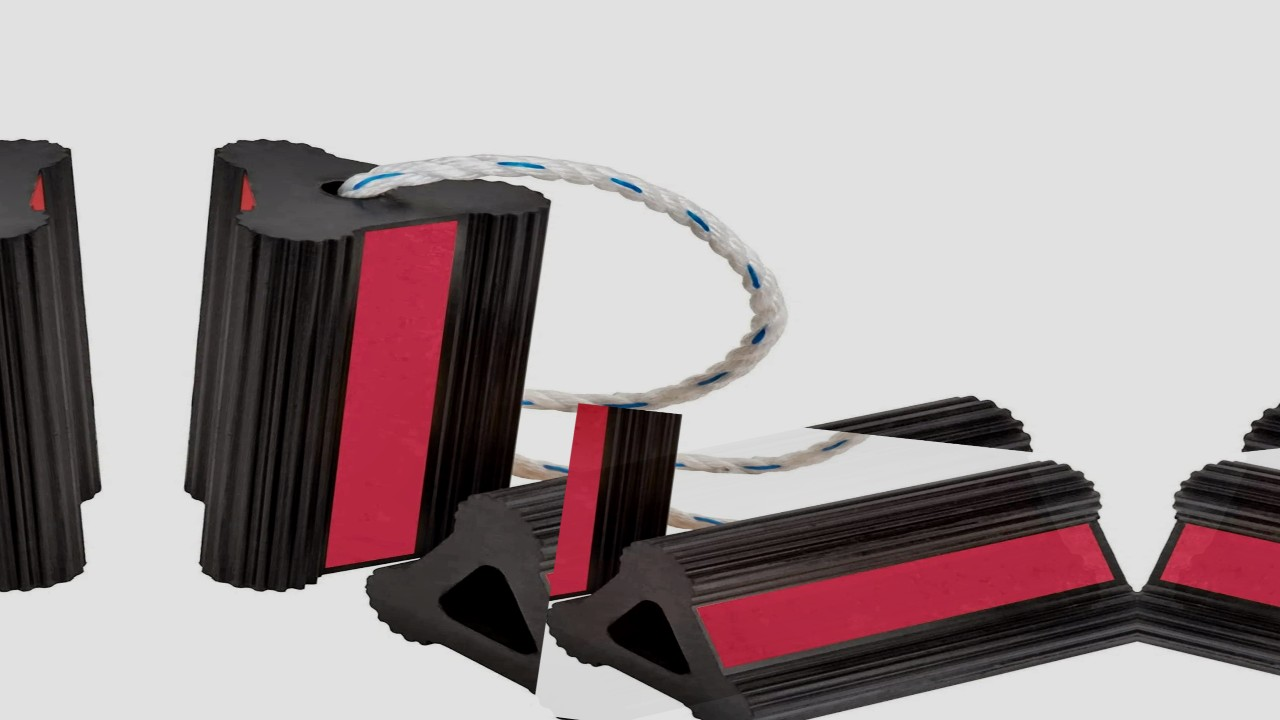chock: (340, 321, 1138, 720), (143, 118, 582, 621), (521, 398, 1138, 720), (0, 118, 142, 621), (1138, 321, 1280, 720), (1138, 398, 1280, 720)
